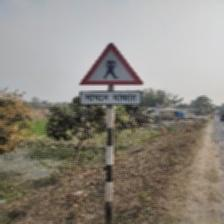Market-in-front: (78, 42, 145, 106)
